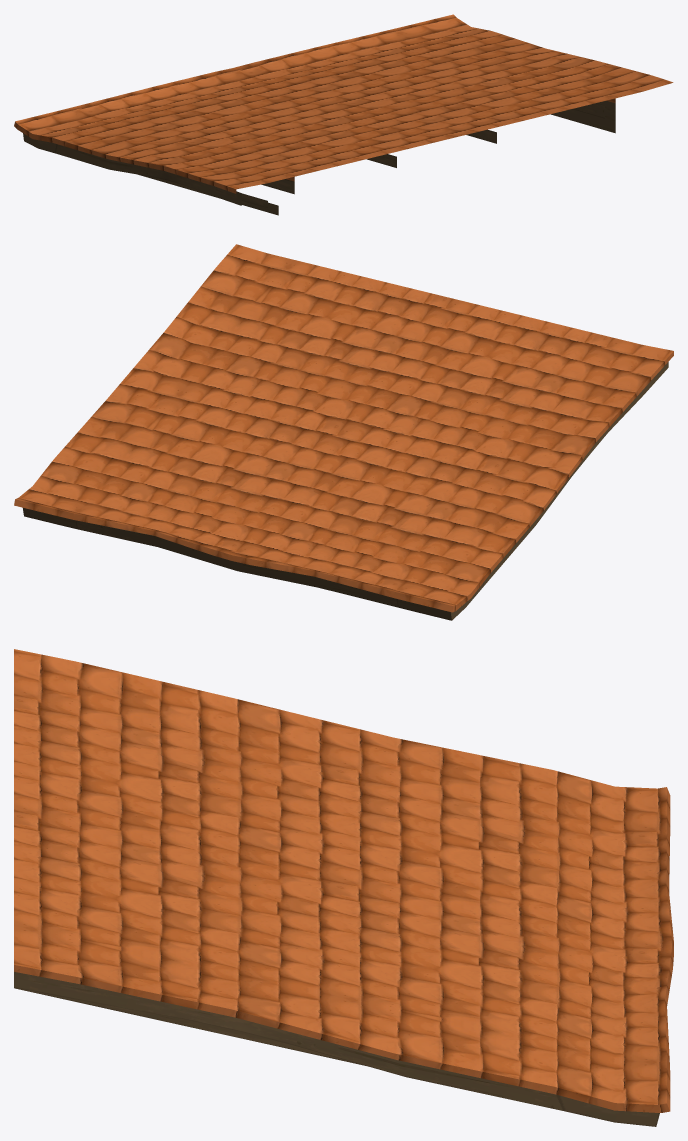
File: SM_building_roof_17.glb
3 views of the same model, one above another, from view 1: azimuth 30°, elevation 25°; view 2: azimuth 150°, elevation 25°; view 3: azimuth 270°, elevation 25° (orthographic). The views are drawn at different scales.
Visible parts, largest first — view 1: SM_building_roof_17; view 2: SM_building_roof_17; view 3: SM_building_roof_17.
Boxes of the visible parts, left/top/right/bottom form: SM_building_roof_17: left=14, top=14, right=673, bottom=215; SM_building_roof_17: left=14, top=244, right=673, bottom=620; SM_building_roof_17: left=14, top=649, right=673, bottom=1126.
Bounding box in the file's own units: 8.2 × 2.19 × 7.23.
3 materials, 3 textured.
